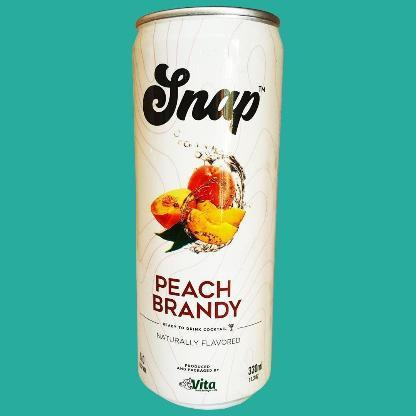Can: (131, 4, 285, 412)
